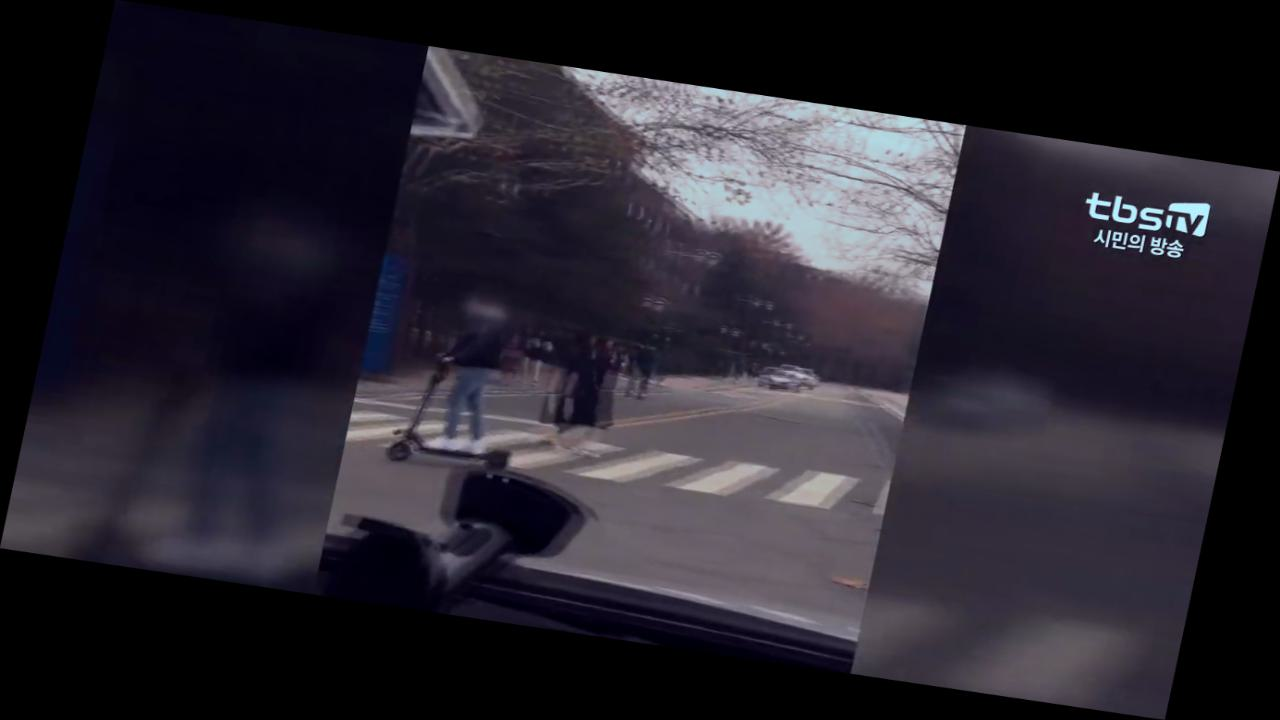nonhelmet: (383, 280, 554, 482)
